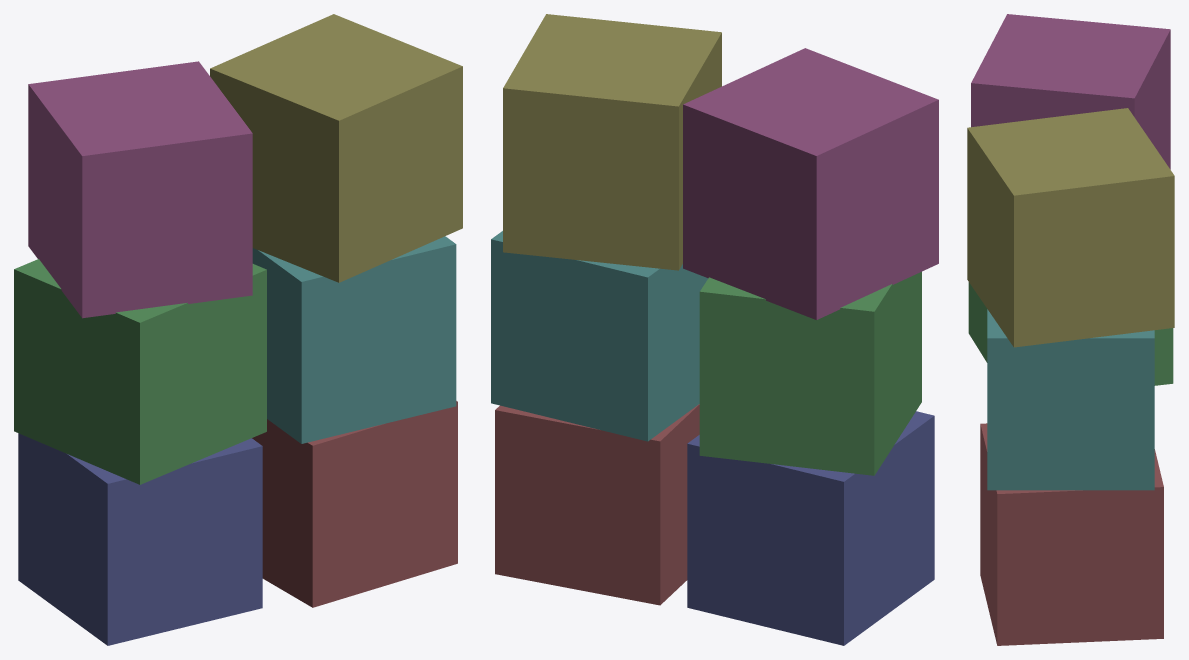
File: square_blocks.fbx
3 views of the same model, side by side, from view 1: azimuth 30°, elevation 25°; view 2: azimuth 150°, elevation 25°; view 3: azimuth 270°, elevation 25° (orthographic). The views are drawn at different scales.
Visible parts, largest first — view 1: pasted__pCube1 (×5), pCube1; view 2: pasted__pCube1 (×5), pCube1; view 3: pasted__pCube1 (×5).
Boxes of the visible parts, x1,y1,x2,y2 form: pasted__pCube1 (×5): [14, 14, 462, 607]; pCube1: [18, 433, 262, 645]; pasted__pCube1 (×5): [491, 14, 938, 605]; pCube1: [687, 411, 934, 645]; pasted__pCube1 (×5): [967, 14, 1174, 645].
Bounding box in the file's own units: 2.5 × 3.05 × 1.24.
